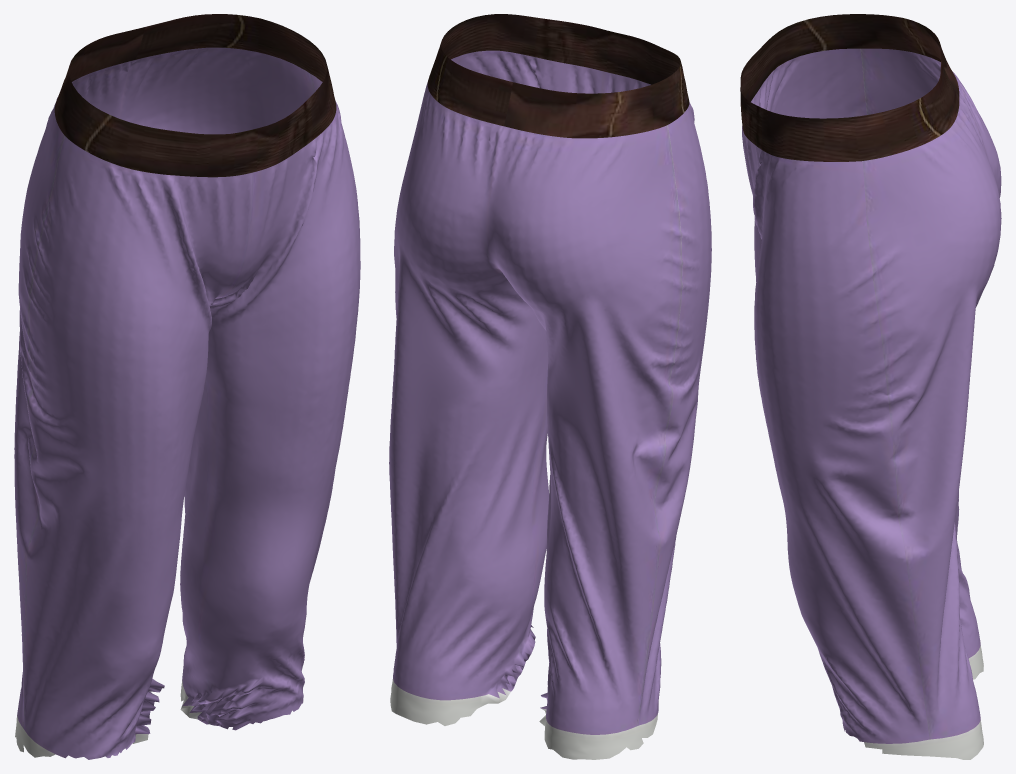
Rendered from female_purple_trouser_32.glb.
3 renders of one model, left to right at view 1: azimuth 30°, elevation 25°; view 2: azimuth 150°, elevation 25°; view 3: azimuth 270°, elevation 25°, orthographic. The views are drawn at different scales.
Visible parts, largest first — view 1: casual_trousers_2_woman_ref.001; view 2: casual_trousers_2_woman_ref.001; view 3: casual_trousers_2_woman_ref.001.
Boxes of the visible parts, x1=… form: casual_trousers_2_woman_ref.001: x1=14, y1=14, x2=360, y2=759; casual_trousers_2_woman_ref.001: x1=389, y1=14, x2=711, y2=759; casual_trousers_2_woman_ref.001: x1=740, y1=14, x2=1001, y2=759.
Bounding box in the file's own units: 0.398 × 0.877 × 0.32.
Materials: 6 (6 with a texture image).
